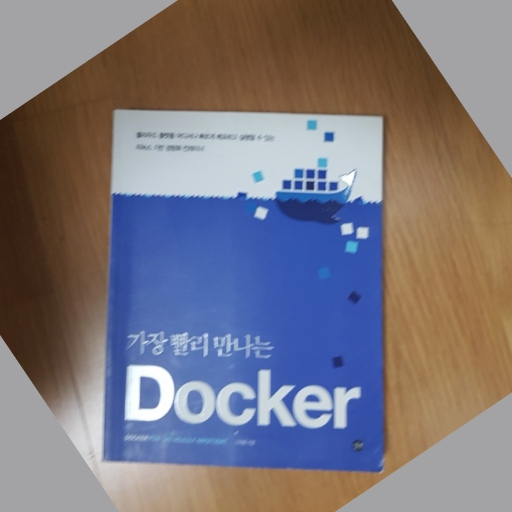Paper_0: (100, 100, 397, 482)
